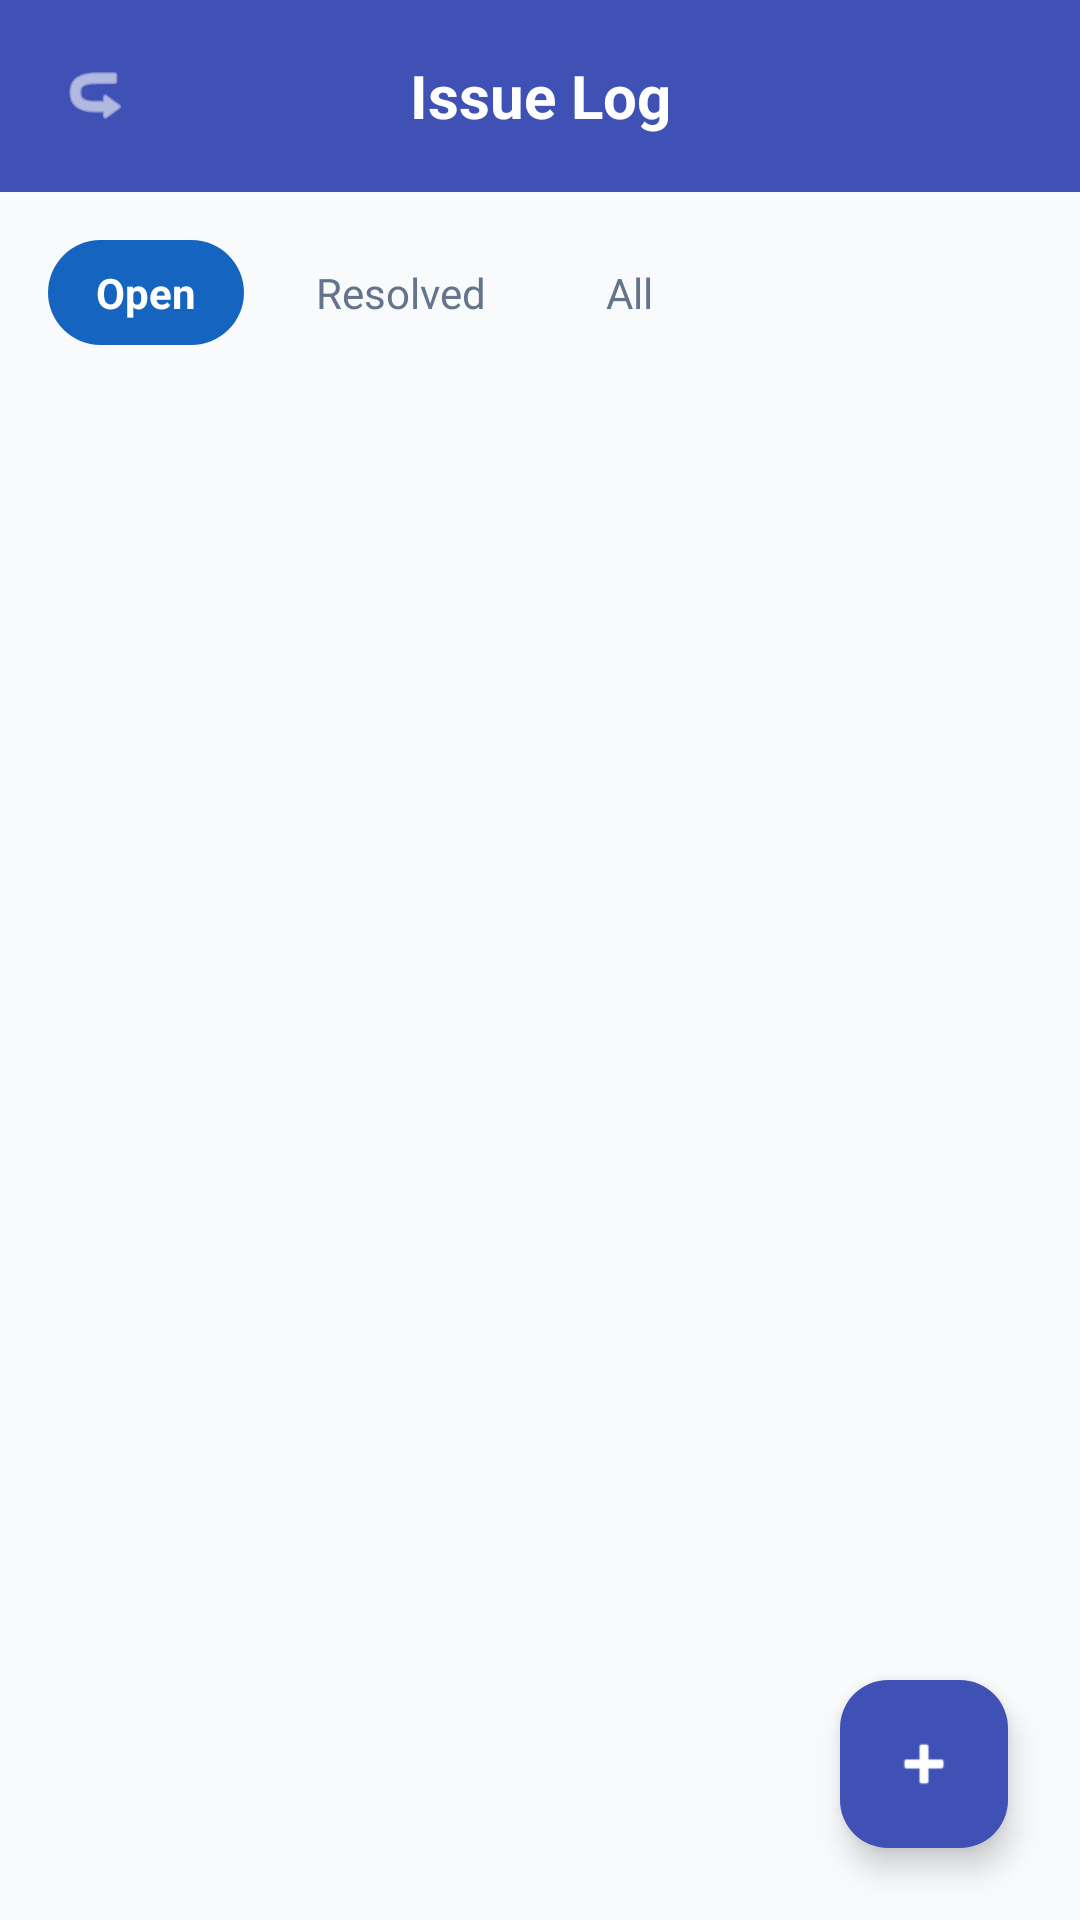

Point at icon controls on the screen. Image size 1080px x 1920px, points as point (x, y).
New Issue: point (924, 1764)
